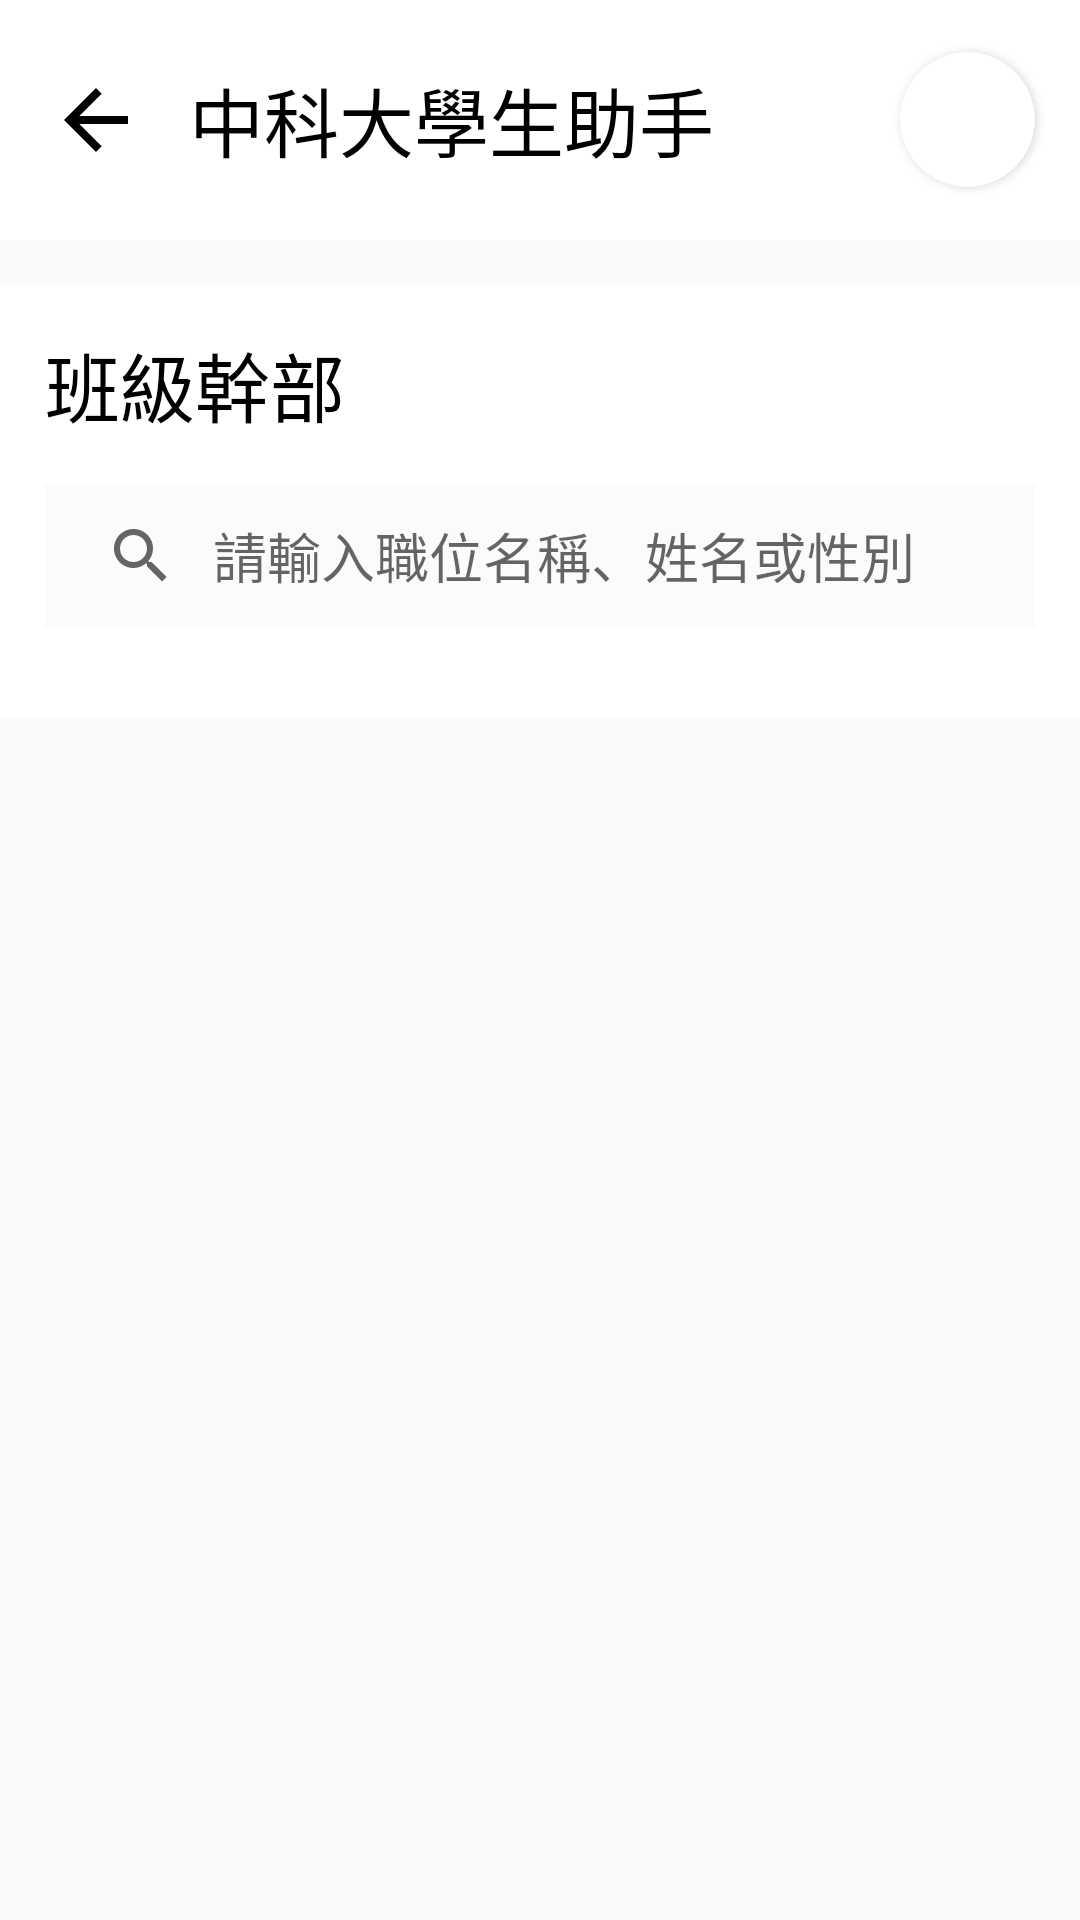

Point at icon controls on the screen. Image size 1080 × 1920, points as (x=x, y=y).
back: (x=96, y=120)
